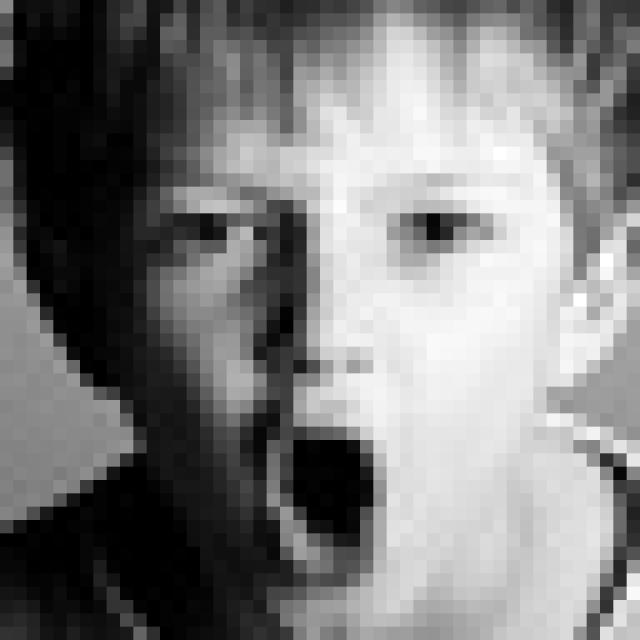angry: (130, 154, 526, 591)
